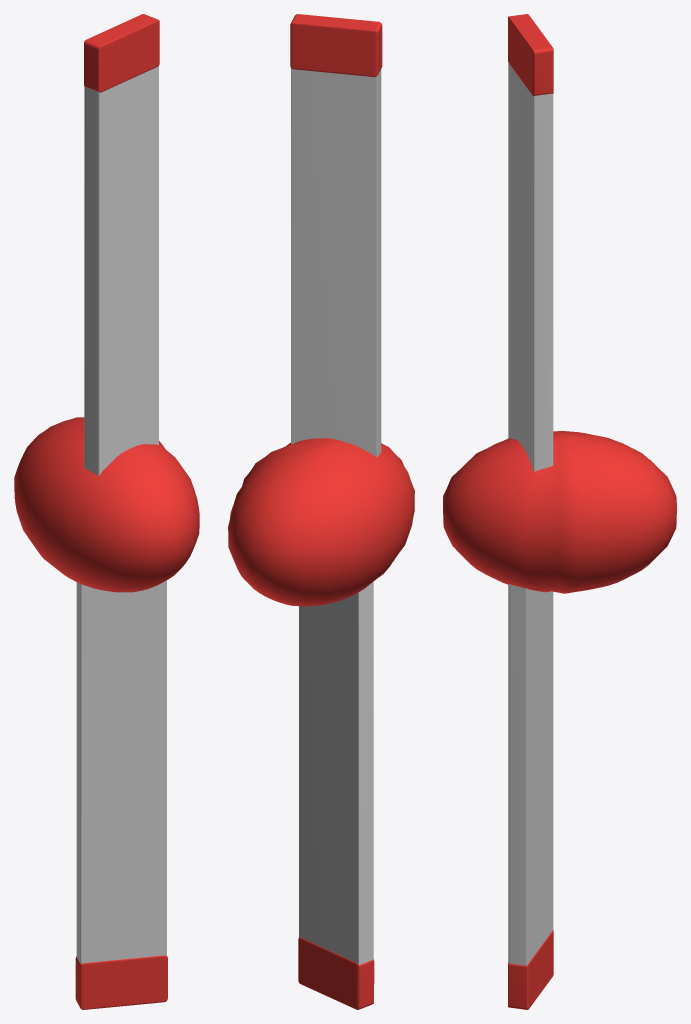
The model's file is plane_propeller.glb.
The picture shows the model from 3 angles, left to right: view 1: azimuth 30°, elevation 25°; view 2: azimuth 150°, elevation 25°; view 3: azimuth 270°, elevation 25°; orthographic projection.
Visible parts, largest first — view 1: plane_propeller.001; view 2: plane_propeller.001; view 3: plane_propeller.001.
Boxes of the visible parts, <box> form: plane_propeller.001: <box>14,14,199,1009</box>; plane_propeller.001: <box>228,14,414,1009</box>; plane_propeller.001: <box>443,14,676,1009</box>.
Bounding box in the file's own units: 2.25 × 14.5 × 3.2.
